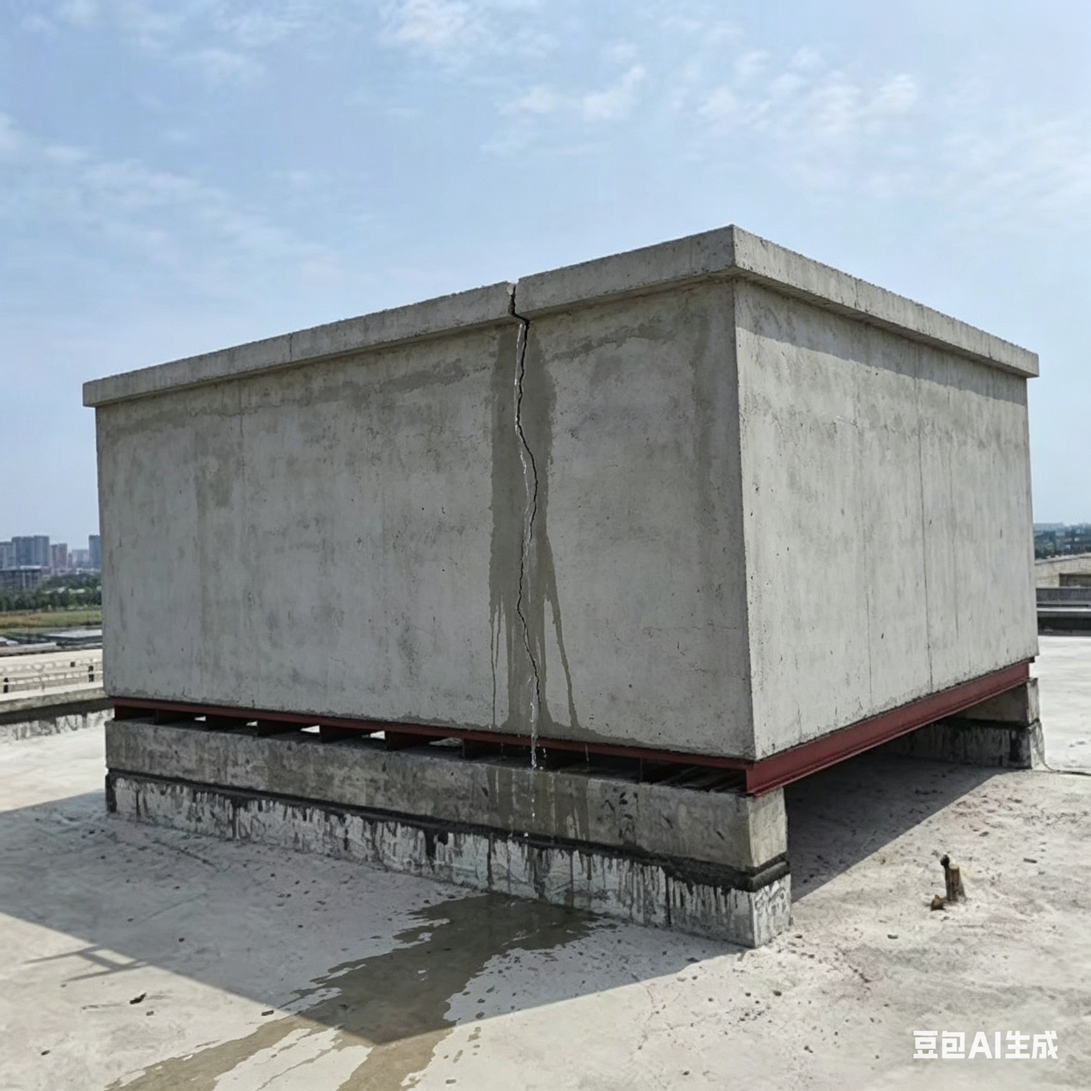Leakage: (471, 305, 556, 941), (343, 959, 503, 1087), (126, 1045, 251, 1091), (253, 1003, 337, 1045), (389, 909, 459, 947)
